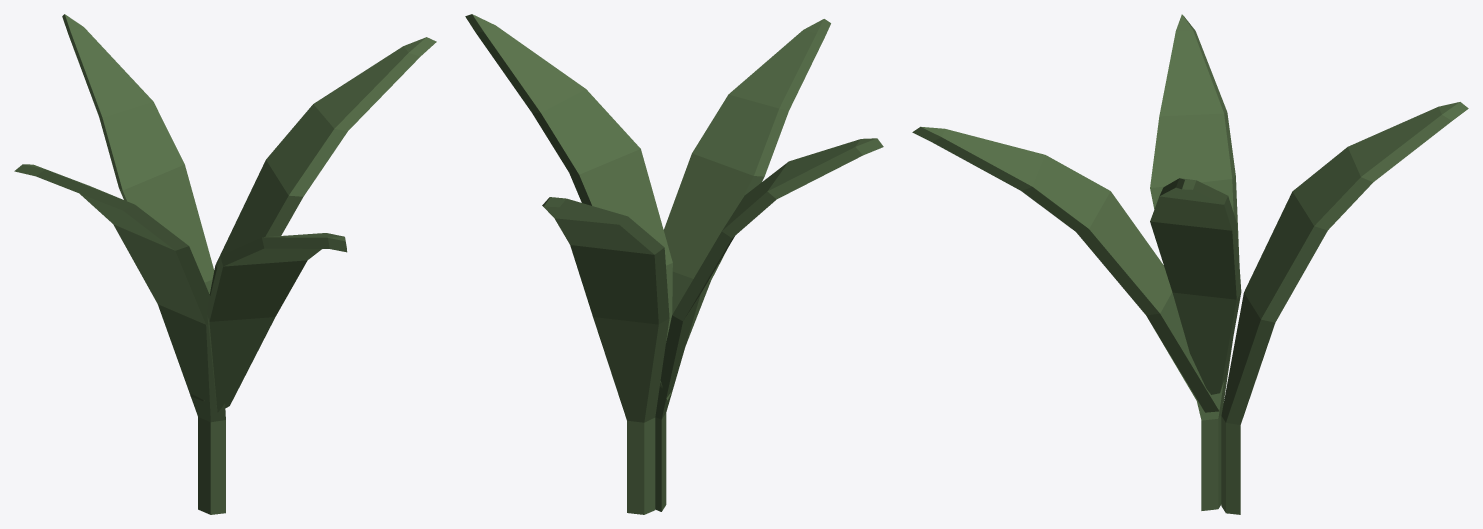
The model's file is palm_tree_1.glb.
3 renders of one model, left to right at view 1: azimuth 30°, elevation 25°; view 2: azimuth 150°, elevation 25°; view 3: azimuth 270°, elevation 25°, orthographic. The views are drawn at different scales.
Visible parts, largest first — view 1: PalmTree_1; view 2: PalmTree_1; view 3: PalmTree_1.
Part boxes in pixels (box(x1,y1,x2,y2)): PalmTree_1: box(14, 14, 436, 514); PalmTree_1: box(465, 14, 883, 514); PalmTree_1: box(912, 14, 1468, 514).
Bounding box in the file's own units: 0.3551 × 0.3502 × 0.4184.
